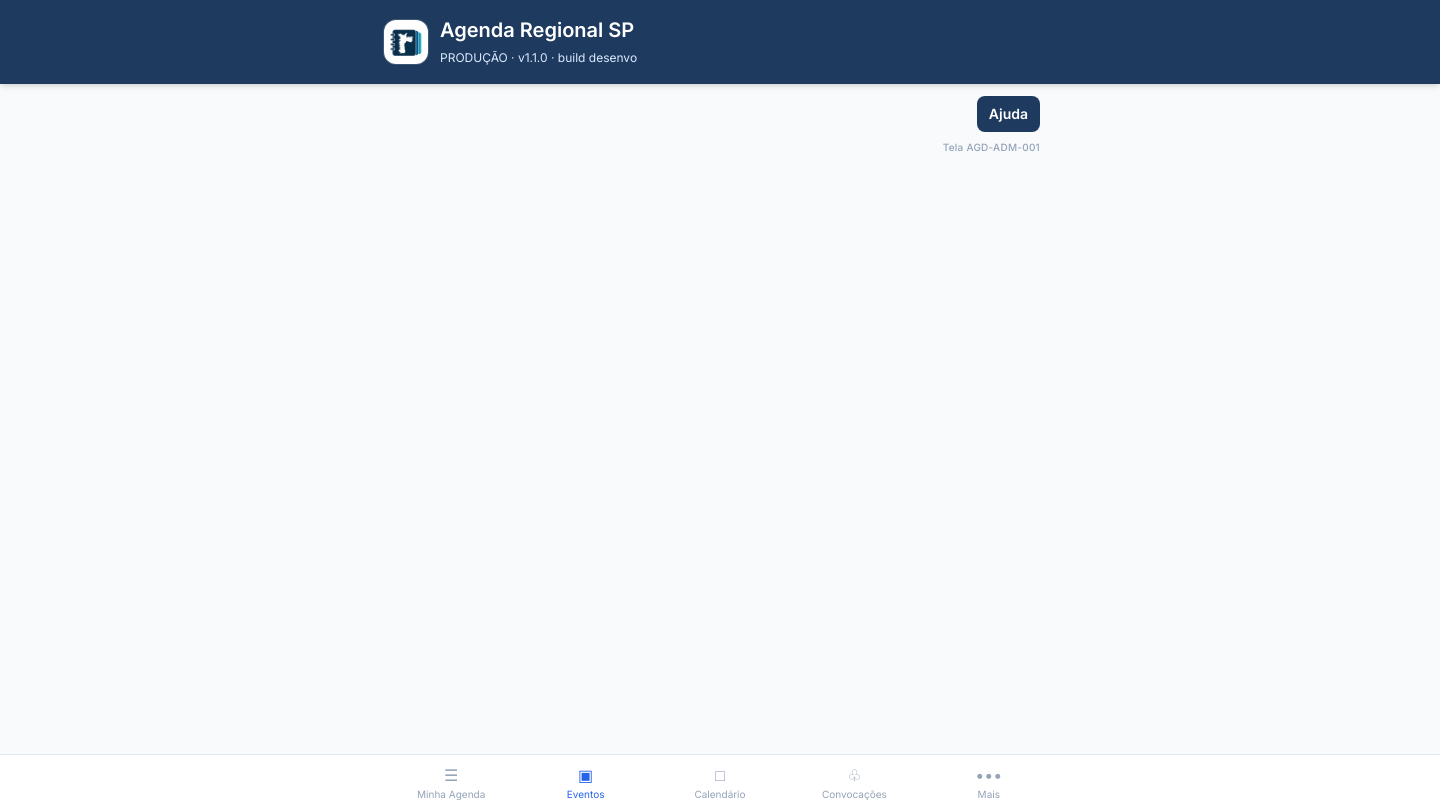
Central de Ajuda › toda aba eventos tem artigo, código oficial e botão de ajuda
Click the button "Ajuda".
click(1008, 114)  # box [977,96,1040,132]
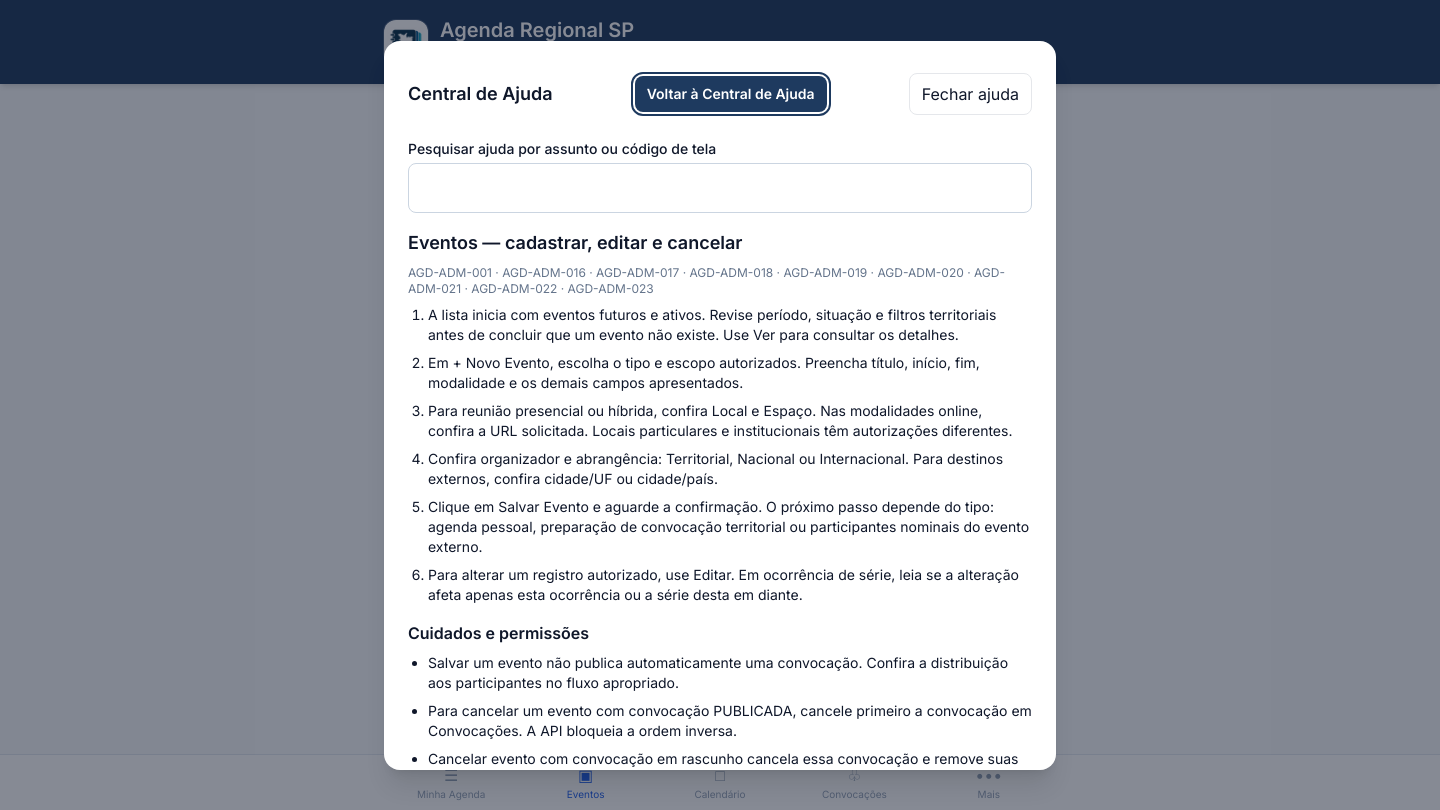
Expected: the heading "Eventos — cadastrar, editar e cancelar" is shown, [408,232,742,252]
